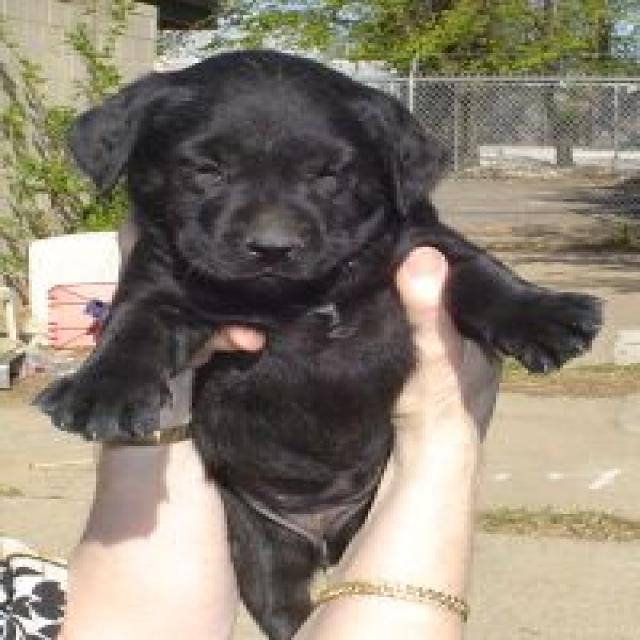Dogs: (29, 45, 605, 638)
